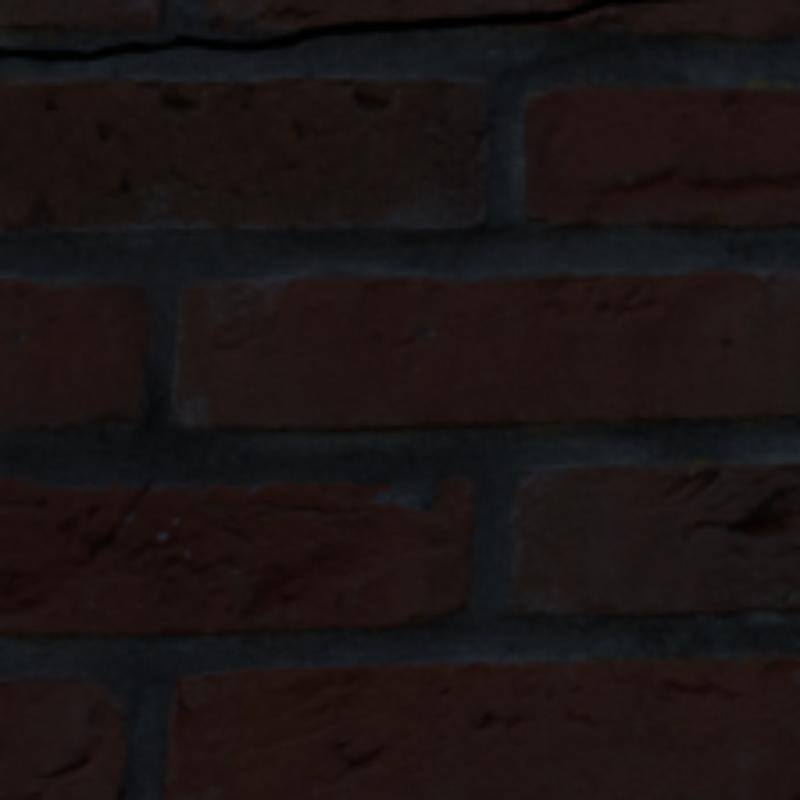crack: (0, 0, 661, 61)
